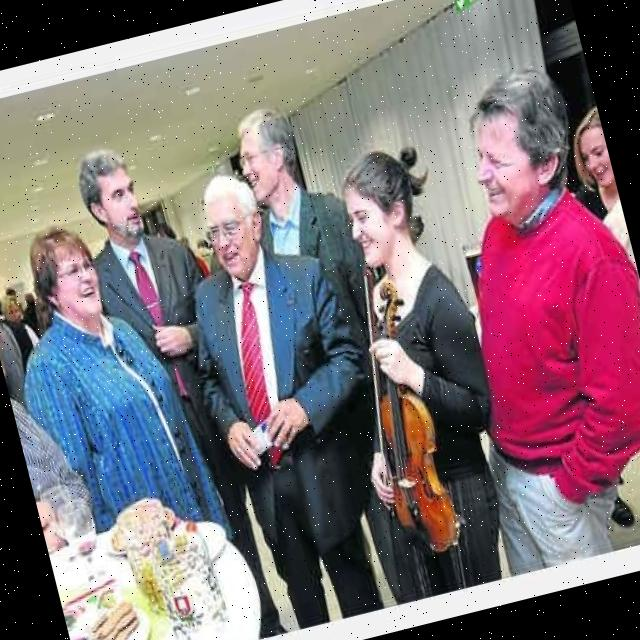violin: (338, 271, 476, 566)
